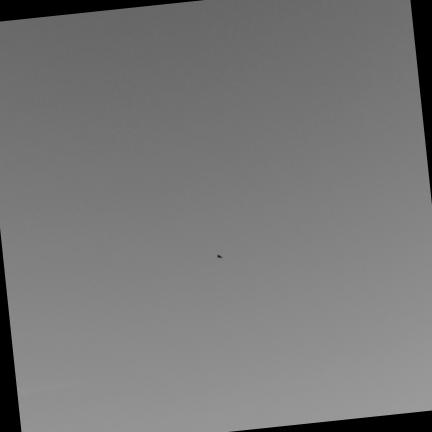Shahed: (217, 254, 223, 259)
